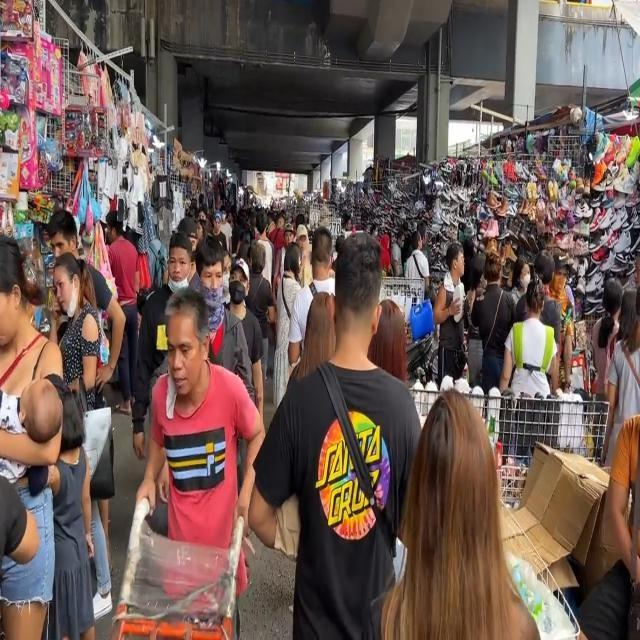hairnet: (202, 263, 222, 307), (169, 250, 188, 292)
